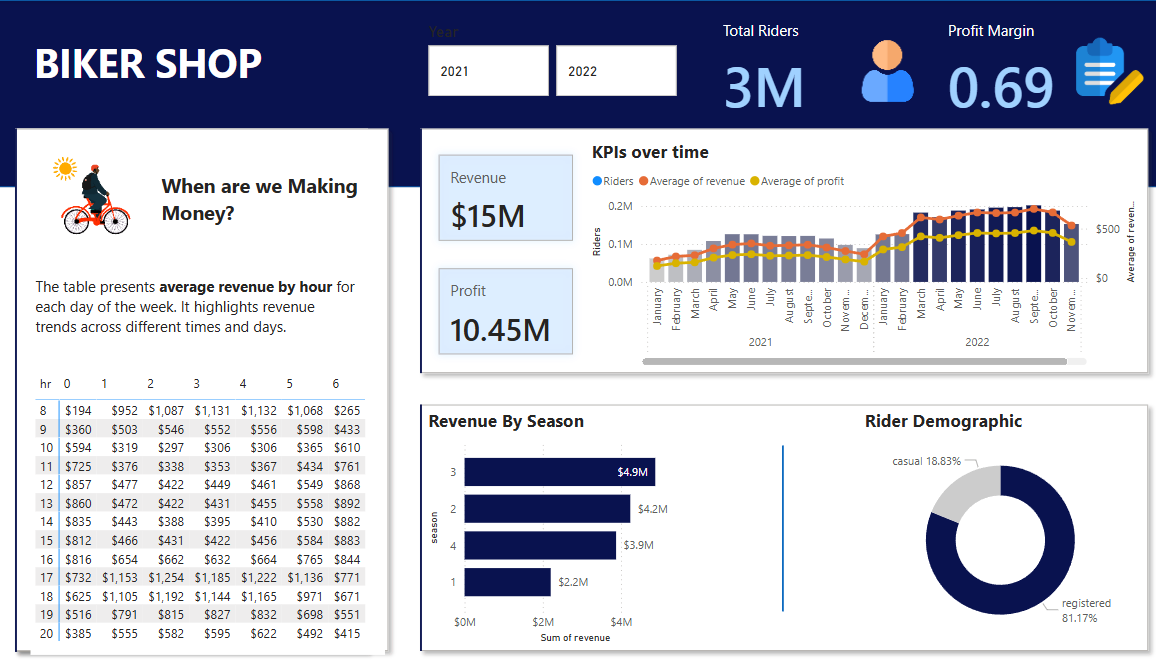

Layout of this report page (visuals, bound fields, positions):
{"tool":"powerbi","page":{"name":"Page 1","canvas":[1280,720],"ordinal":0},"visuals":[{"type":"shape","box":[0,0,1269.9,202.2],"z":0},{"type":"cardVisual","fields":{"Data":["Min(Query1.riders)"]},"box":[0,120.9,415.8,599.1],"z":1000},{"type":"cardVisual","fields":{"Data":["Min(Query1.riders)"]},"box":[437.2,419.8,820.4,300.4],"z":2000},{"type":"cardVisual","fields":{"Data":["Min(Query1.riders)"]},"box":[0,121.3,437.2,598.9],"z":3000},{"type":"cardVisual","fields":{"Data":["Min(Query1.riders)"]},"box":[437.2,121.3,820.4,298.5],"z":4000},{"type":"cardVisual","fields":{"Data":["Min(Query1.riders)"]},"box":[33.5,149.5,136.6,118.6],"z":5000},{"type":"pivotTable","fields":{"Columns":["Query1.weekday"],"Rows":["Query1.hr"],"Values":["Avg(Query1.revenue)"]},"box":[33.9,398.3,382.4,308.7],"z":6000},{"type":"textbox","box":[170.1,180.4,224.2,87.6],"z":7000},{"type":"textbox","box":[34.7,292.7,358.2,80.9],"z":8000},{"type":"lineClusteredColumnComboChart","title":"KPIs over time","fields":{"Y":["Sum(Query1.riders)"],"Category":["Query1.dteday.Variation.Date Hierarchy.Year","Query1.dteday.Variation.Date Hierarchy.Month"],"Y2":["Avg(Query1.revenue)","Avg(Query1.profit)"]},"box":[635.5,150.2,597,248.4],"z":9000},{"type":"clusteredBarChart","title":"Revenue By Season","fields":{"Category":["Query1.season"],"Y":["Sum(Query1.revenue)"]},"box":[458.3,441,300.4,258.1],"z":10000},{"type":"donutChart","title":"Rider Demographic","fields":{"Category":["Query1.rider_type"],"Y":["Sum(Query1.riders)"]},"box":[930.2,441,302.4,260],"z":11000},{"type":"shape","box":[845.4,481.5,1.9,179.1],"z":12000},{"type":"cardVisual","title":"KPIs over time","fields":{"Data":["Sum(Query1.revenue)","Sum(Query1.profit)"]},"box":[458.3,150.2,177.2,248.4],"z":13000},{"type":"cardVisual","fields":{"Data":["Sum(Query1.riders)","Query1.Margin"]},"box":[758.8,0,498.8,150.2],"z":14000},{"type":"textbox","box":[32.7,32.7,300.4,67.4],"z":15000},{"type":"advancedSlicerVisual","fields":{"Values":["Query1.Year"]},"box":[458.3,25,279.2,84.7],"z":16000}]}

Visuals, with their boxes in screenshot pixels (x1, y1, x2, y2), scaled from the page's 1280x720 canvas onto the 1156x667 screenshot:
shape: BBox(0, 0, 1147, 187)
cardVisual - Min(Query1.riders): BBox(0, 112, 376, 666)
cardVisual - Min(Query1.riders): BBox(395, 389, 1136, 666)
cardVisual - Min(Query1.riders): BBox(0, 112, 395, 666)
cardVisual - Min(Query1.riders): BBox(395, 112, 1136, 389)
cardVisual - Min(Query1.riders): BBox(30, 138, 154, 248)
pivotTable - Query1.weekday x Query1.hr: BBox(31, 369, 376, 655)
textbox: BBox(154, 167, 356, 248)
textbox: BBox(31, 271, 355, 346)
"KPIs over time" lineClusteredColumnComboChart: BBox(574, 139, 1113, 369)
"Revenue By Season" clusteredBarChart: BBox(414, 409, 685, 648)
"Rider Demographic" donutChart: BBox(840, 409, 1113, 649)
shape: BBox(764, 446, 765, 612)
"KPIs over time" cardVisual: BBox(414, 139, 574, 369)
cardVisual - Sum(Query1.riders) x Query1.Margin: BBox(685, 0, 1136, 139)
textbox: BBox(30, 30, 301, 93)
advancedSlicerVisual - Query1.Year: BBox(414, 23, 666, 102)
